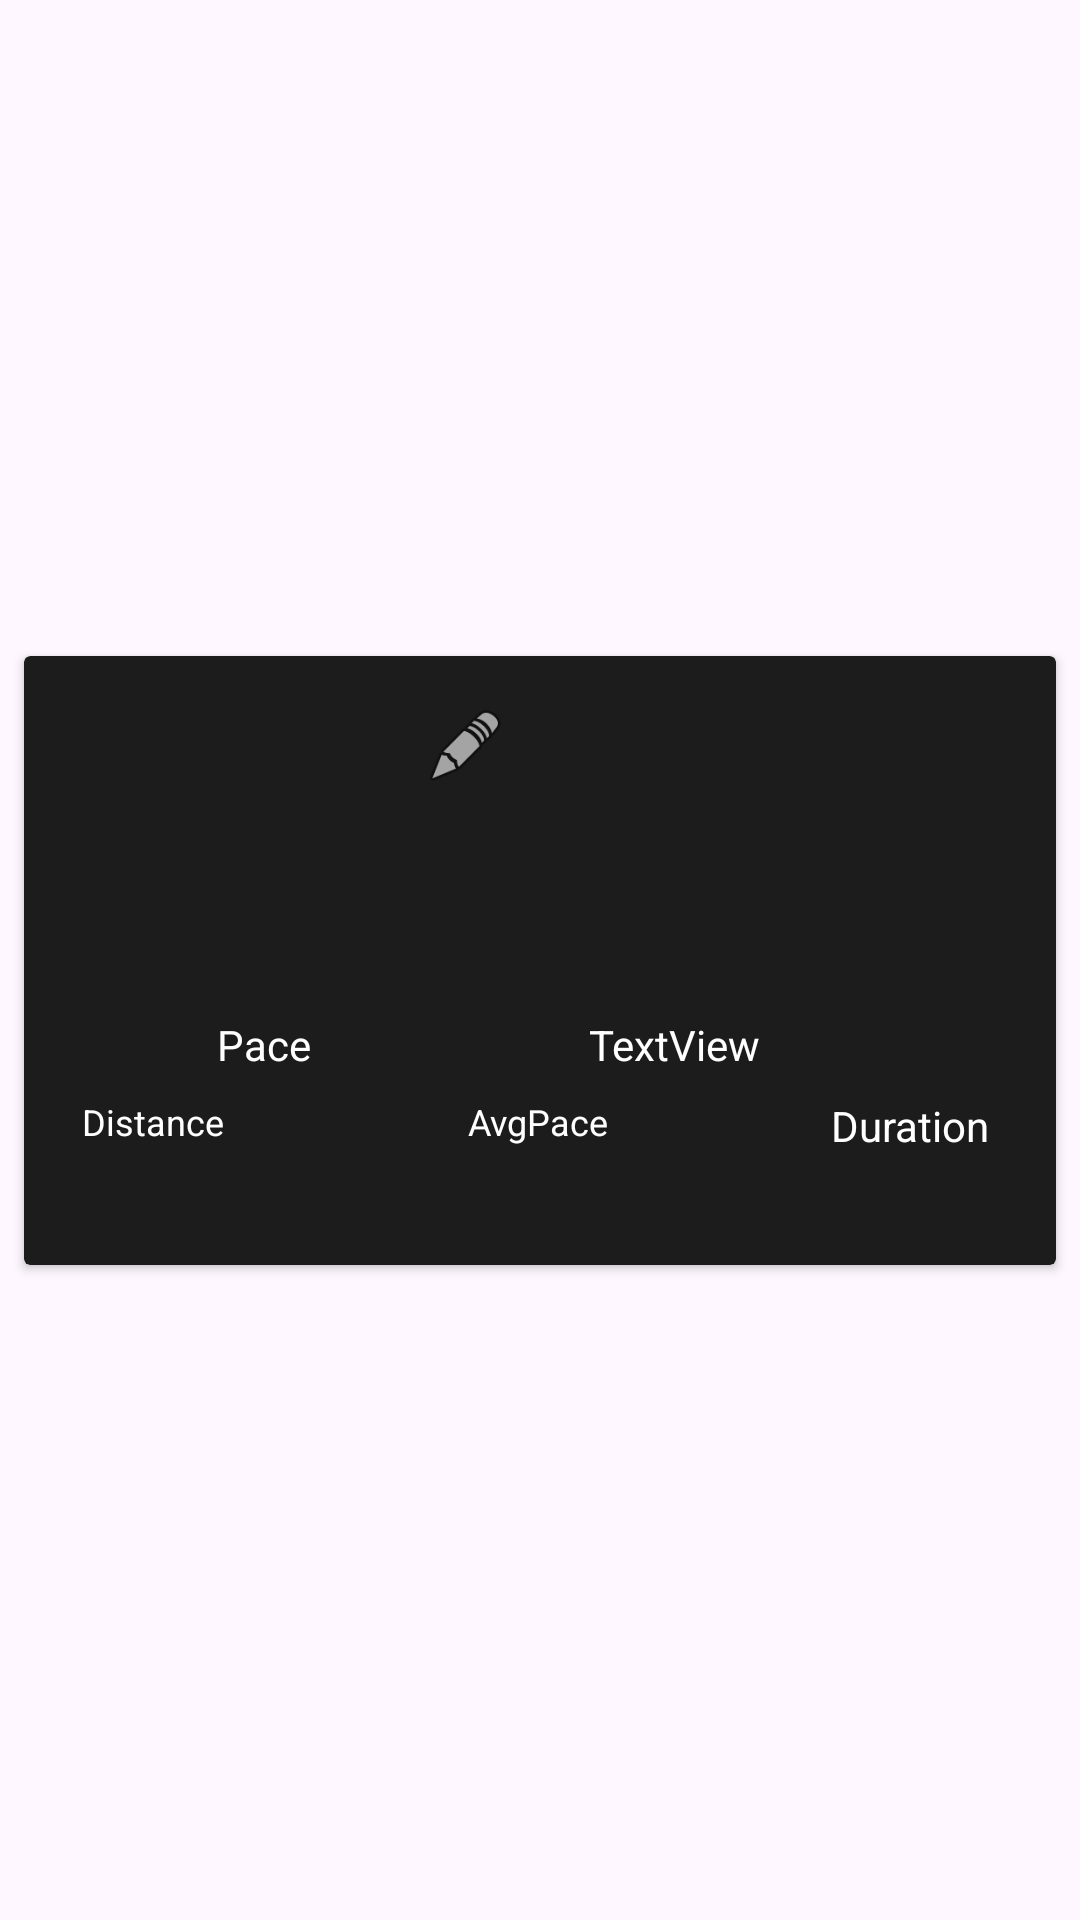

Where to tap for icons on this 1080px x 1920px app screen, as (x,y):
edit: (465,745)
